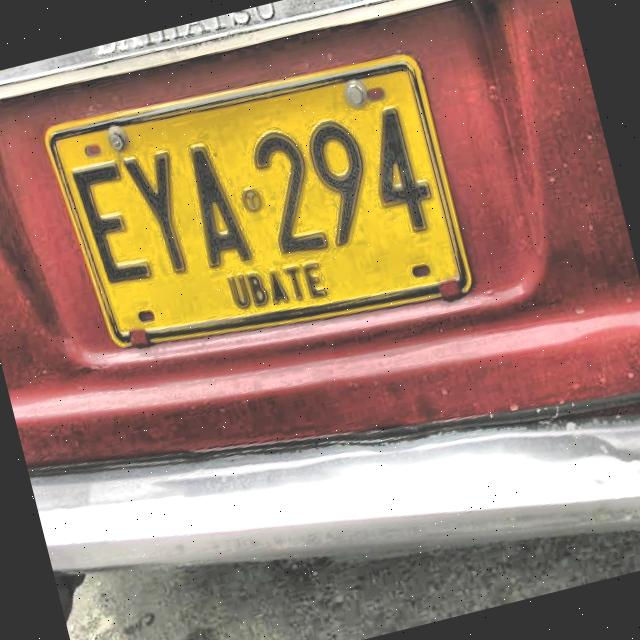plate: (47, 62, 467, 342)
